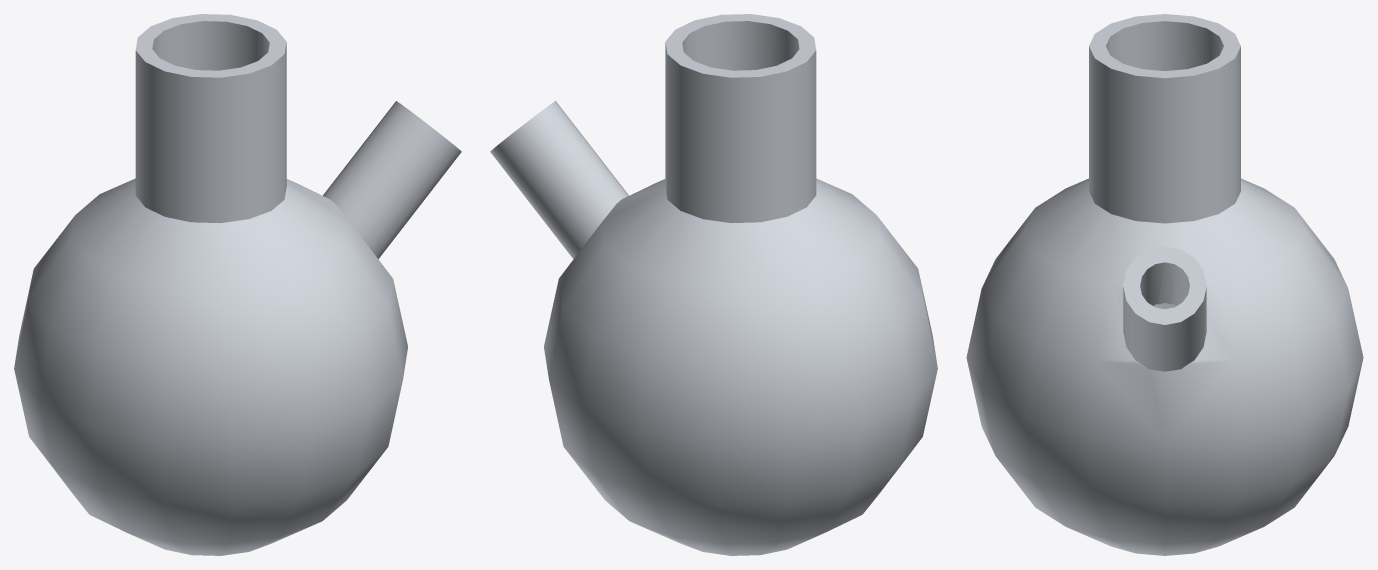
The model's file is bottle_glassware_schlenk_flask_small_.glb.
The picture shows the model from 3 angles, left to right: view 1: azimuth 30°, elevation 25°; view 2: azimuth 150°, elevation 25°; view 3: azimuth 270°, elevation 25°; orthographic projection.
Visible parts, largest first — view 1: bottle_glassware_schlenk_flask_small; view 2: bottle_glassware_schlenk_flask_small; view 3: bottle_glassware_schlenk_flask_small.
Boxes of the visible parts, box(x1,y1,x2,y2) form: bottle_glassware_schlenk_flask_small: box(14, 14, 461, 555); bottle_glassware_schlenk_flask_small: box(490, 14, 937, 555); bottle_glassware_schlenk_flask_small: box(966, 14, 1363, 555).
Bounding box in the file's own units: 11.4 × 12.89 × 9.44.
Materials: 1 (1 with a texture image).
